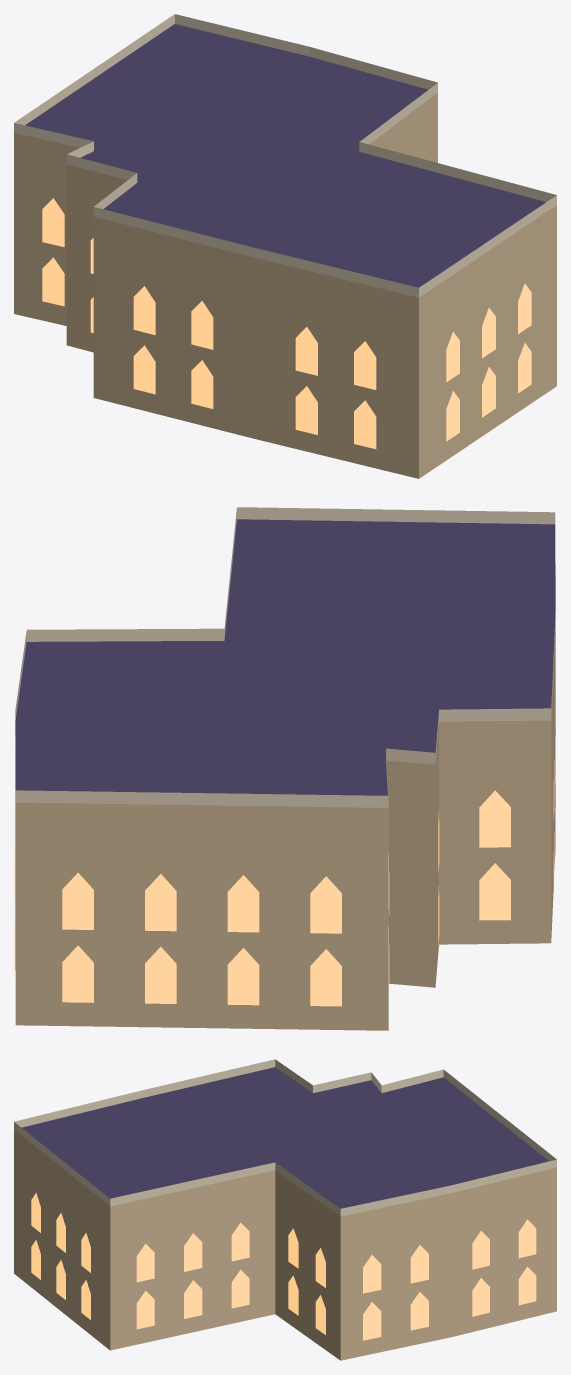
Rendered from b-074-collip-medical-research-building.glb.
The picture shows the model from 3 angles, top to bottom: view 1: azimuth 30°, elevation 25°; view 2: azimuth 150°, elevation 25°; view 3: azimuth 270°, elevation 25°; orthographic projection. The views are drawn at different scales.
Visible parts, largest first — view 1: campus/b-074-collip-medical-research-building-0; view 2: campus/b-074-collip-medical-research-building-0; view 3: campus/b-074-collip-medical-research-building-0.
Boxes of the visible parts, <box> form: campus/b-074-collip-medical-research-building-0: <box>14,14,556,478</box>; campus/b-074-collip-medical-research-building-0: <box>14,507,555,1030</box>; campus/b-074-collip-medical-research-building-0: <box>14,1059,556,1360</box>.
Bounding box in the file's own units: 22.48 × 10.65 × 34.5.
